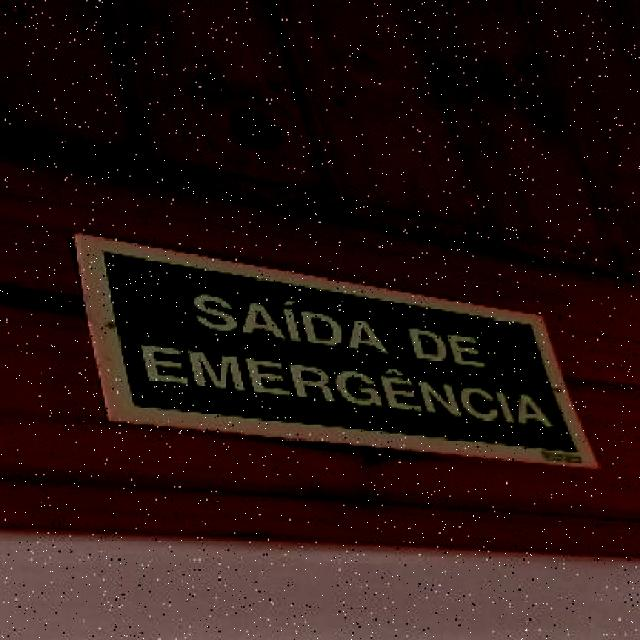emergency_exit: (72, 231, 601, 472)
